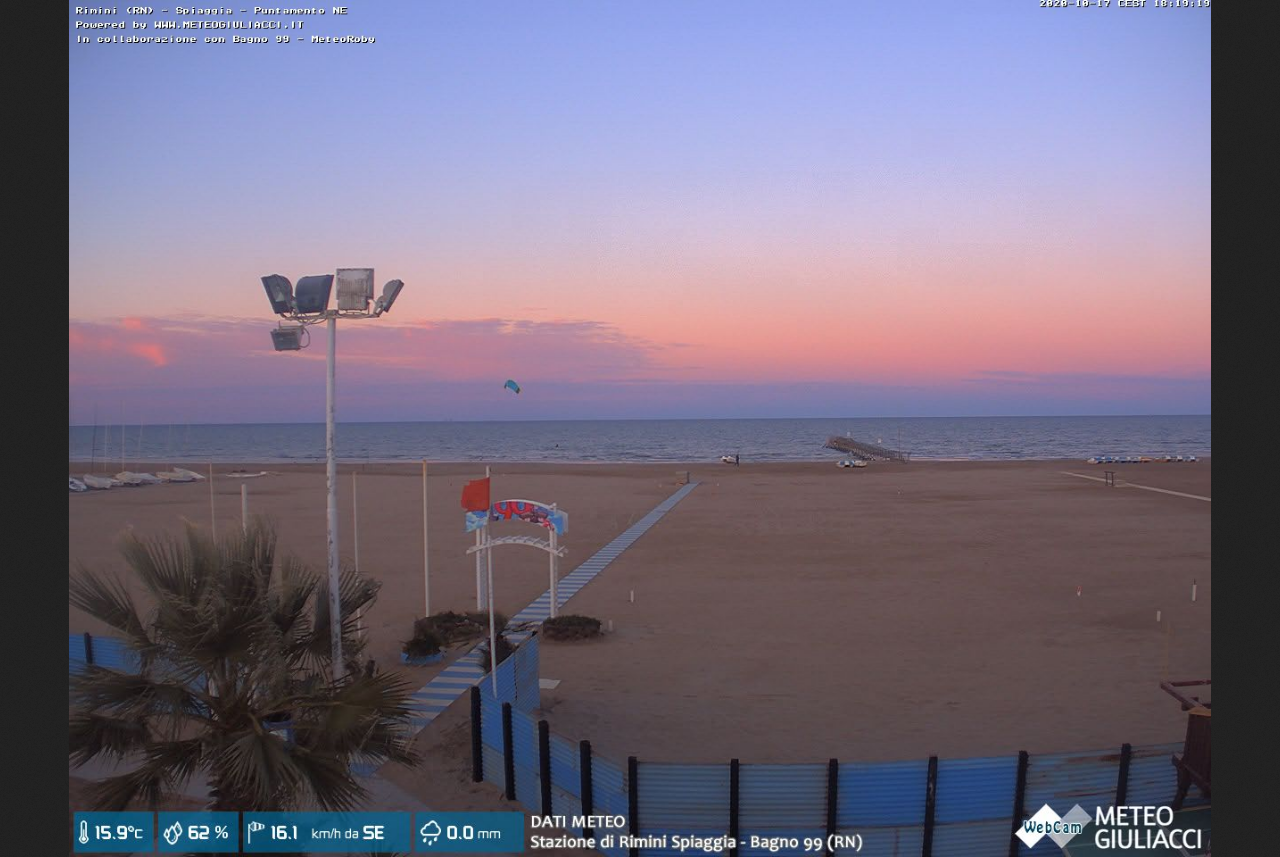yes: (457, 474, 489, 516)
